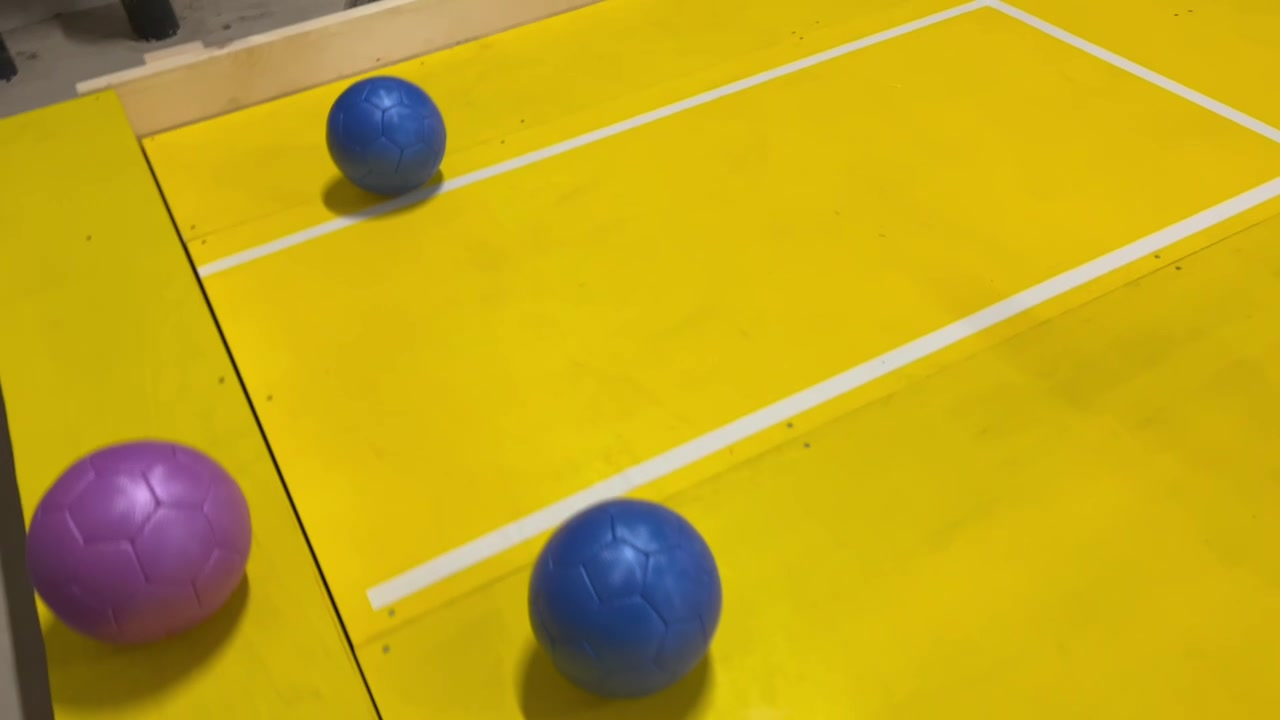blue: (510, 494, 729, 699), (315, 77, 449, 206)
